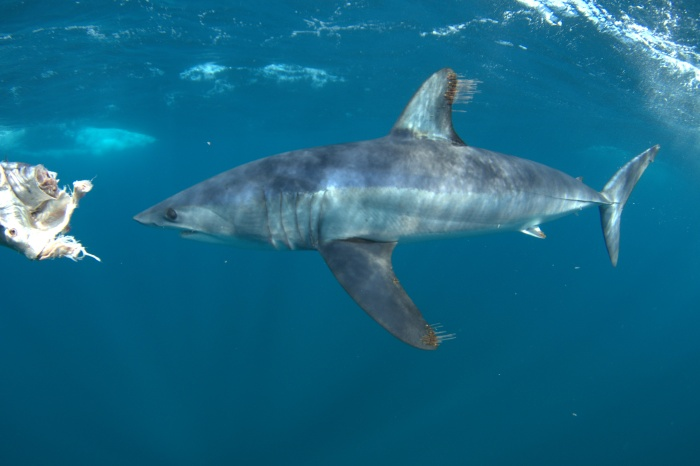Mako: (124, 65, 669, 361)
